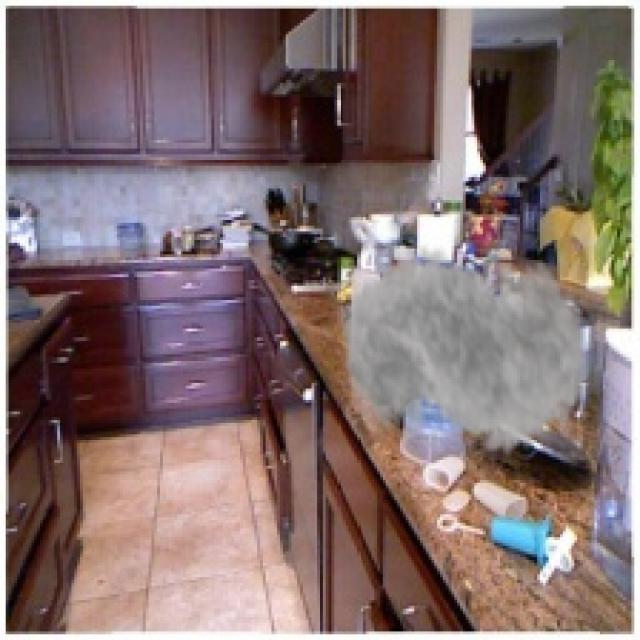Smoke: (339, 217, 592, 474)
